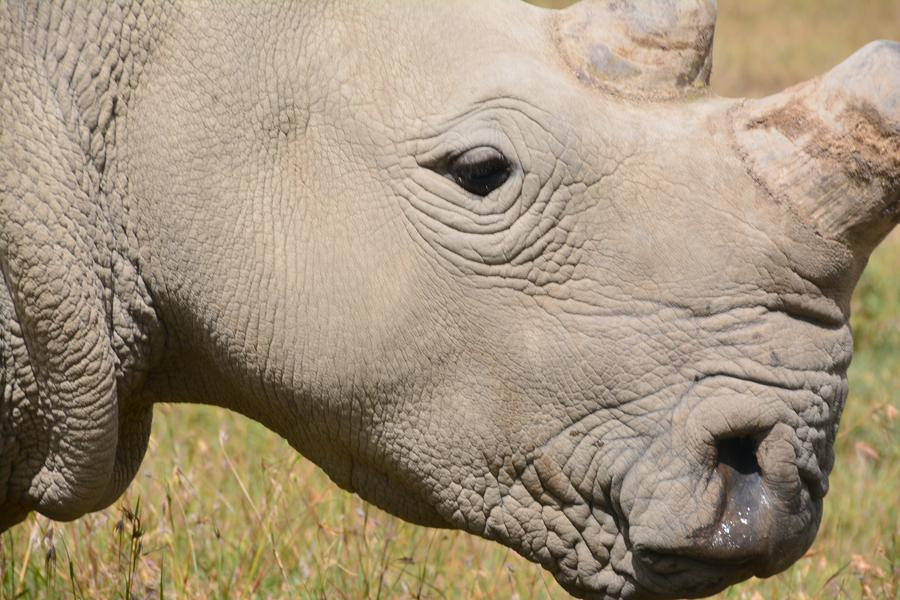rhino: (23, 8, 839, 578)
